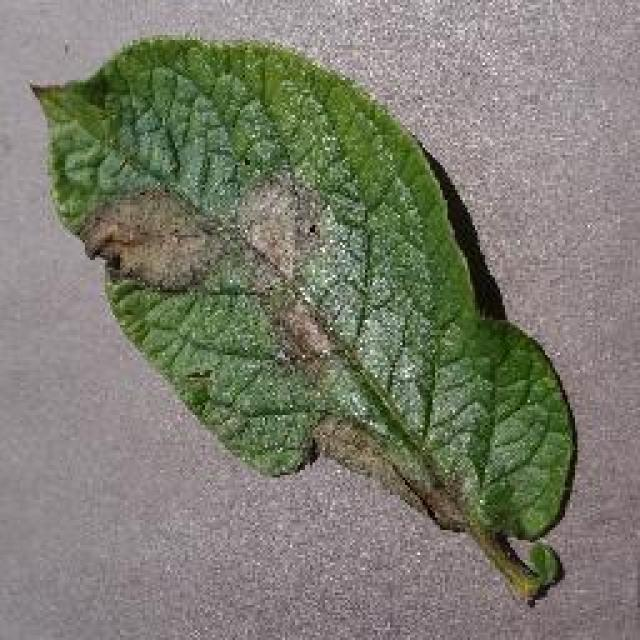late_blight: (25, 30, 580, 608)
